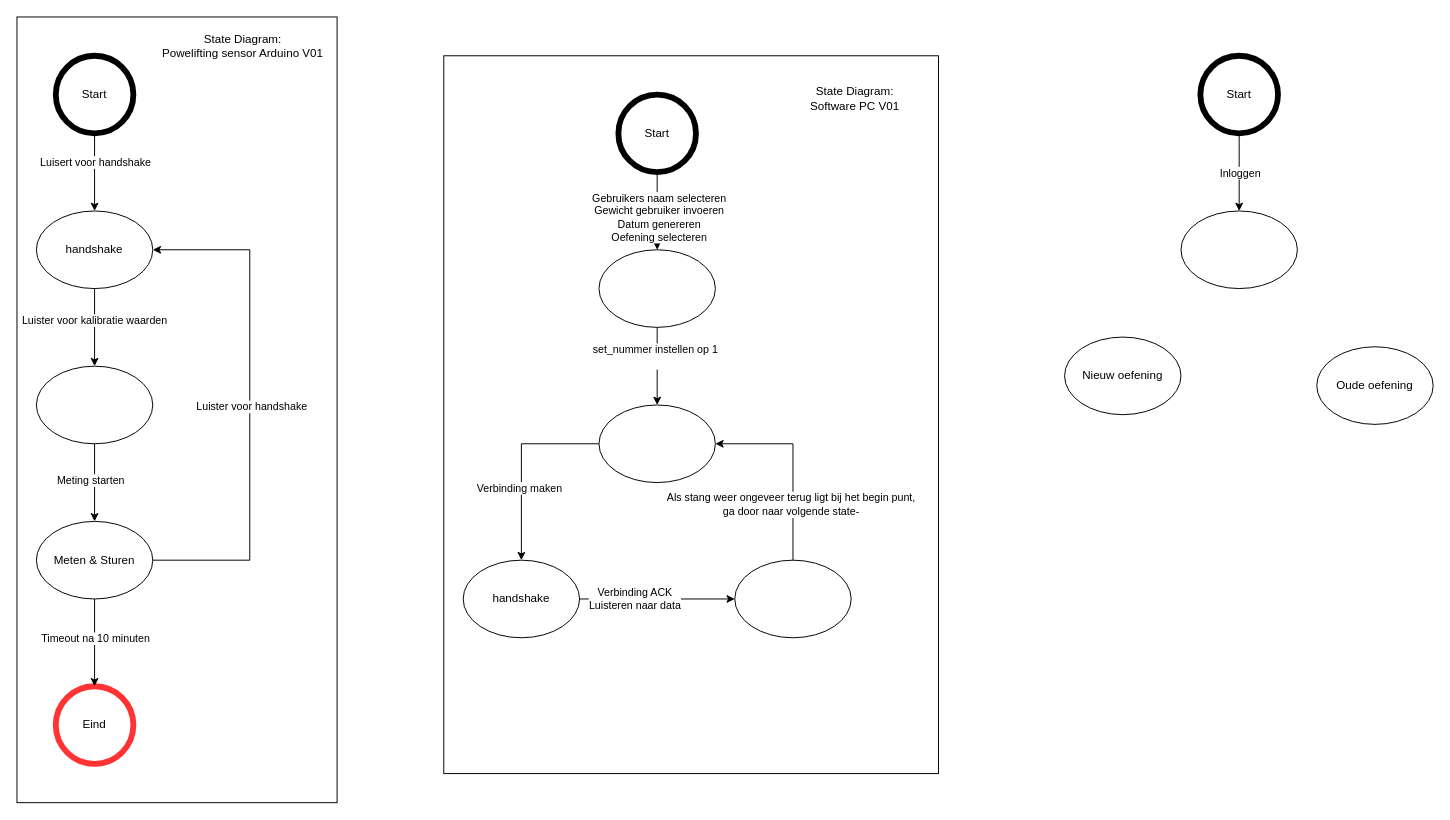
The diagram is 1450 pixels wide and 820 high, and some of its shapes have lost their labels. Here are the shapes that lost their labels. From the top down, the centre of each, then its label:
(x=1238, y=249): Gebruikersomgeving
(x=656, y=288): Omgeving opstellen
(x=94, y=404): kalibreren
(x=656, y=443): Set
(x=792, y=598): Ontvangen
